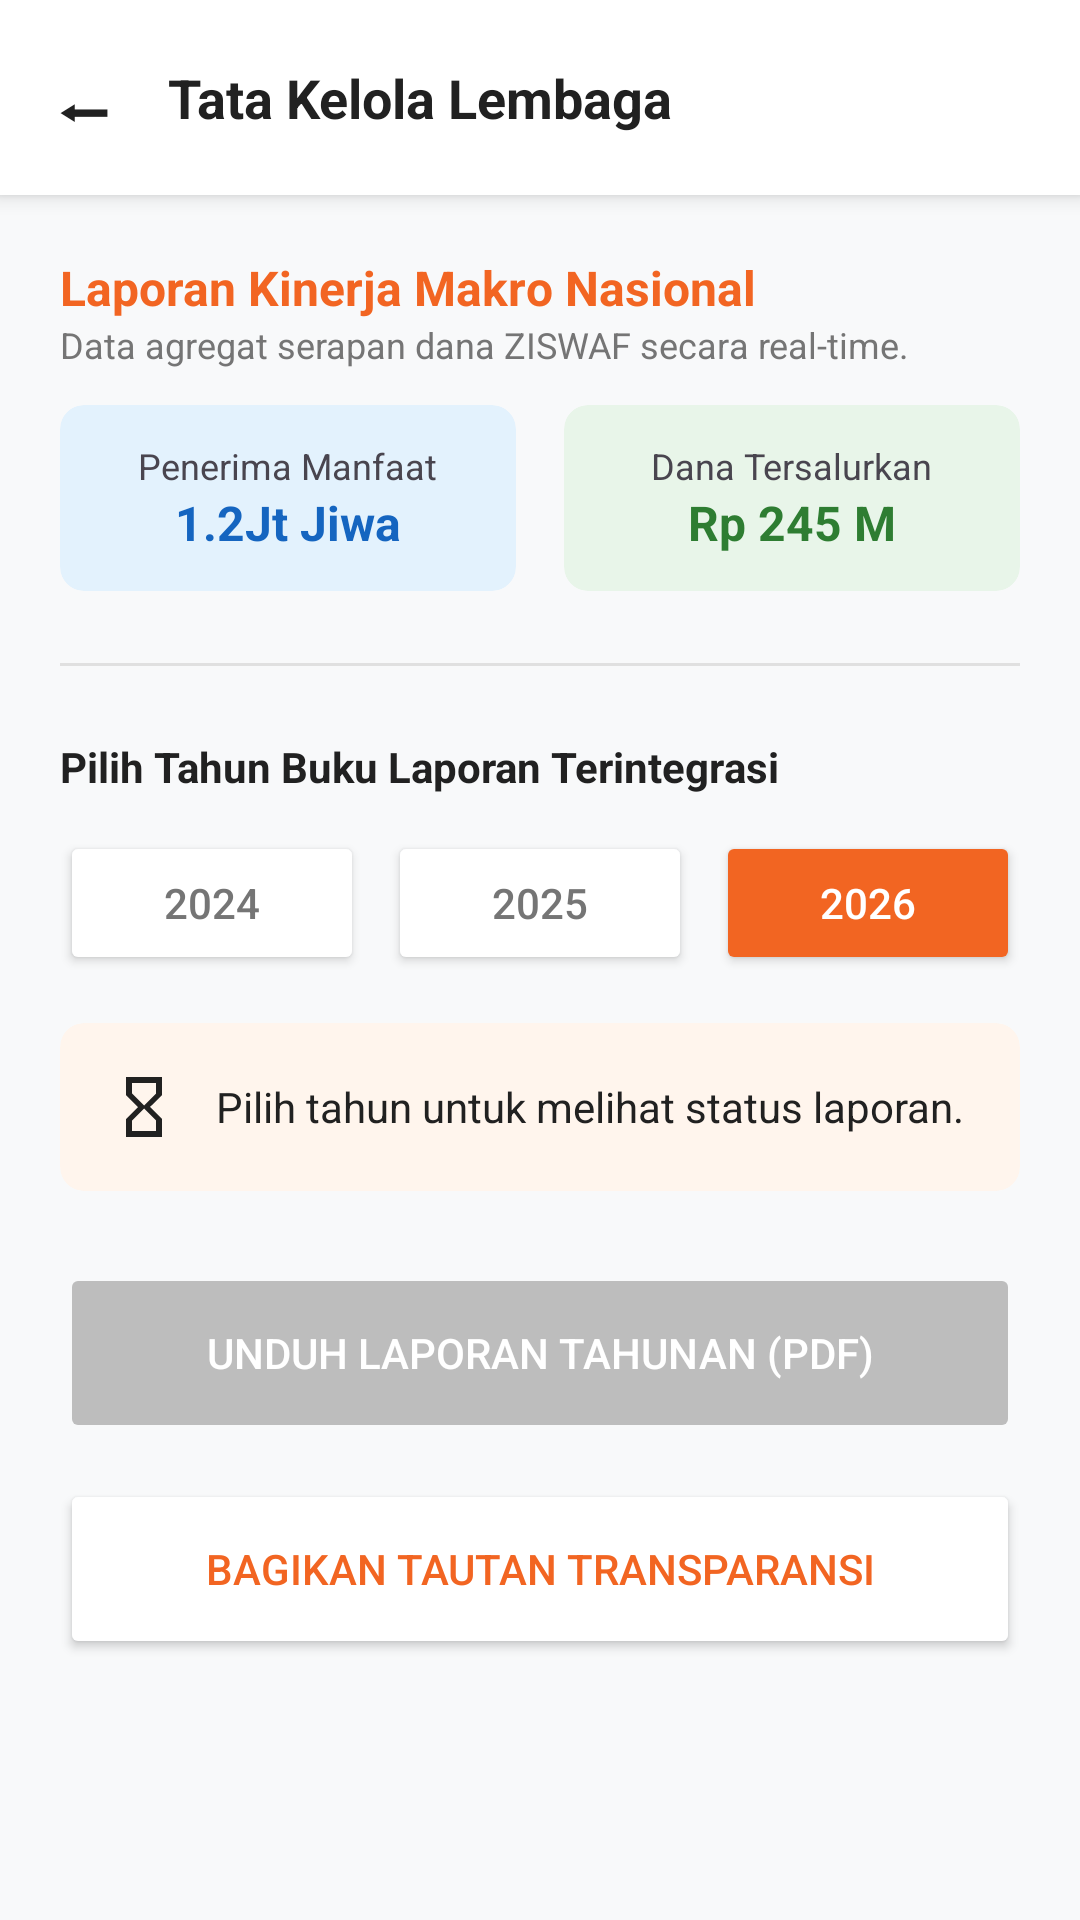

Icon click points for this 1080*1920 phone screenshot, format [x,y]:
pending: [144,1107]
